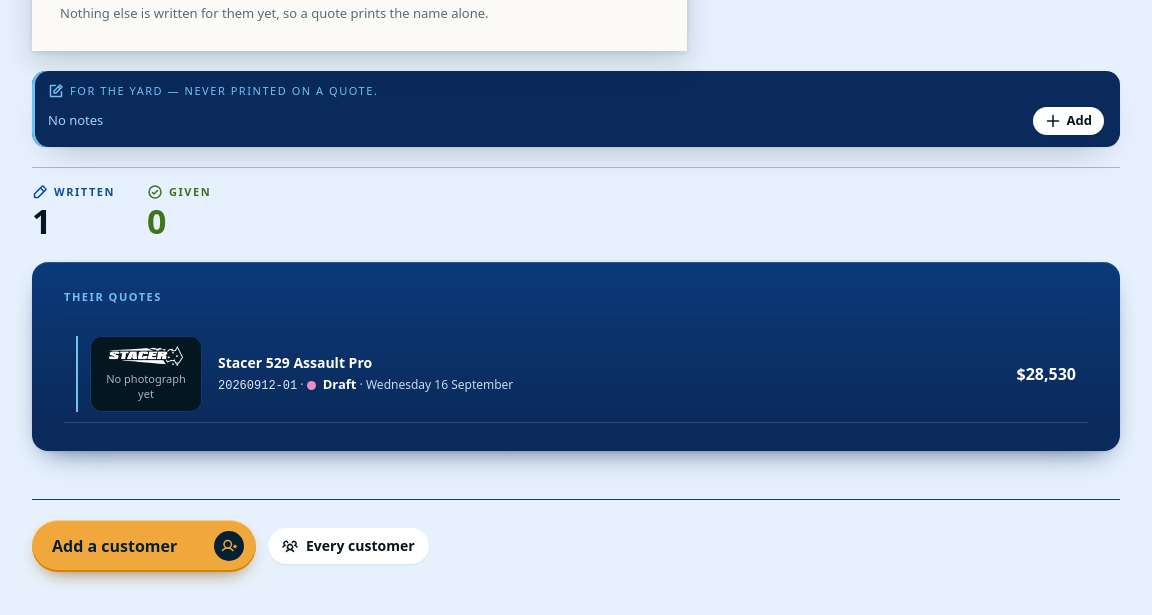
Test: adding somebody by hand makes the book, in one step, with one undo › lands on whoever was touched last when an addition is taken back, never on nobody
(page scrolled)
Click the button "Add a customer": [144, 546] box [32,520,256,572]
(page scrolled)
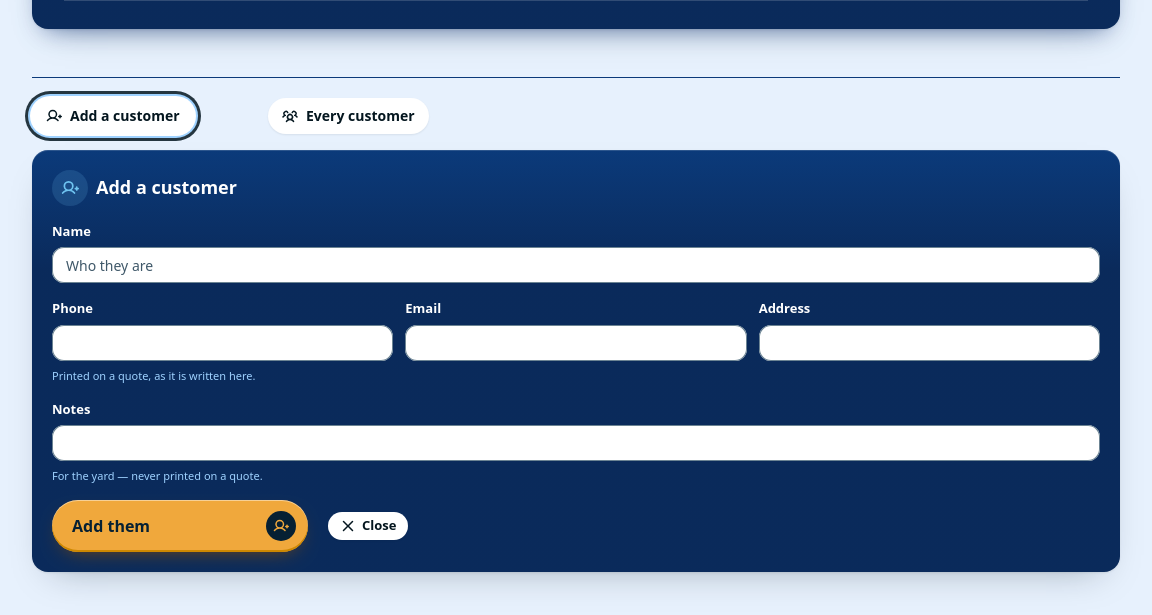
In the field labelled "Name": [576, 265] box [52,247,1100,283], type "Sarah Jones"
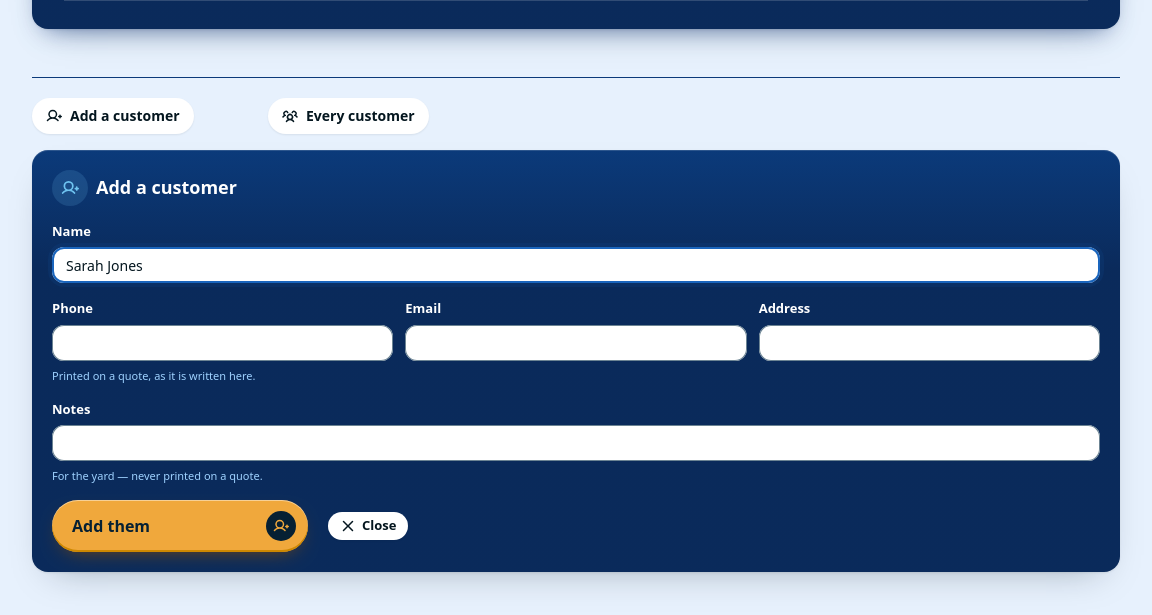
Click the button "Add them": [180, 526] box [52,500,308,552]
(page scrolled)
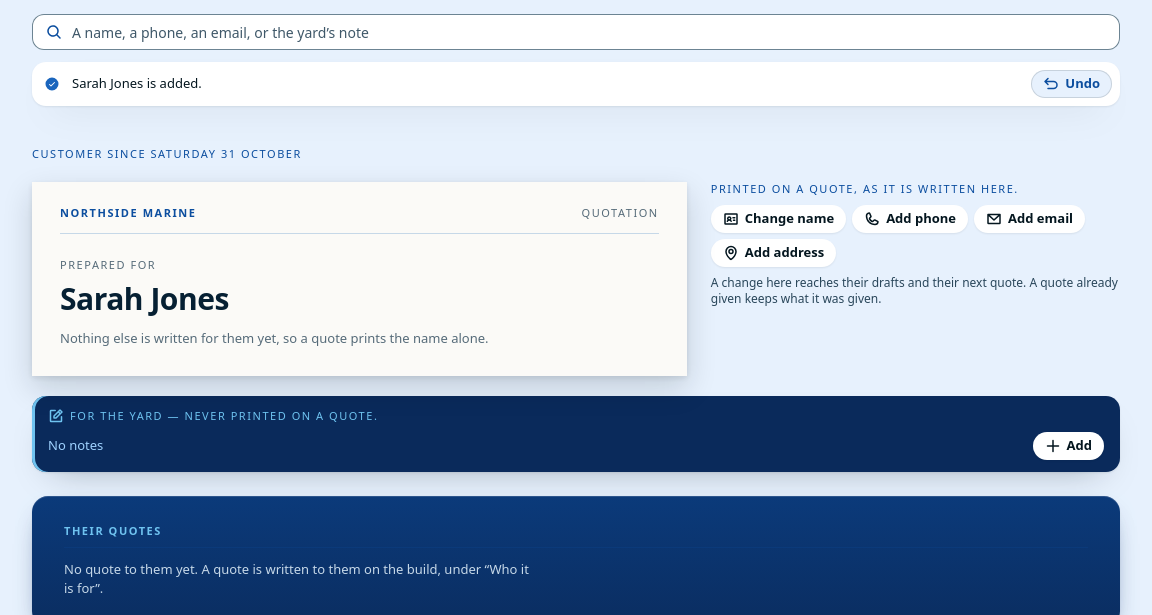
Check: the heading "Sarah Jones" is shown, box [60,278,229,318]
Click the button "Undo": [1072, 84] box [1031,70,1112,98]
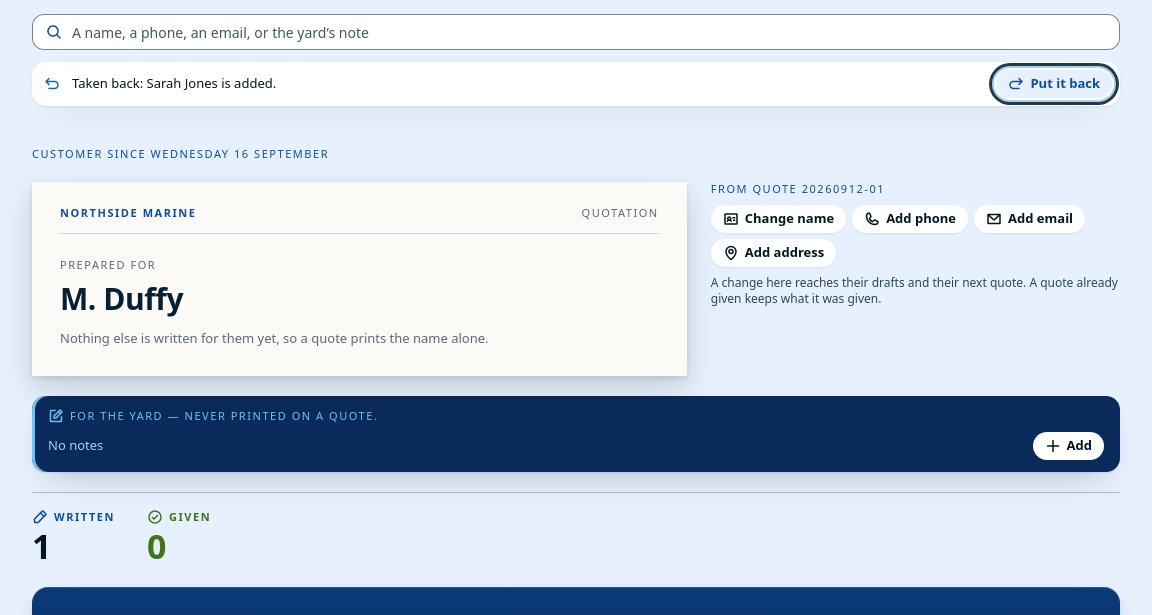
Check: the heading "M. Duffy" is shown, box [60,278,183,318]
